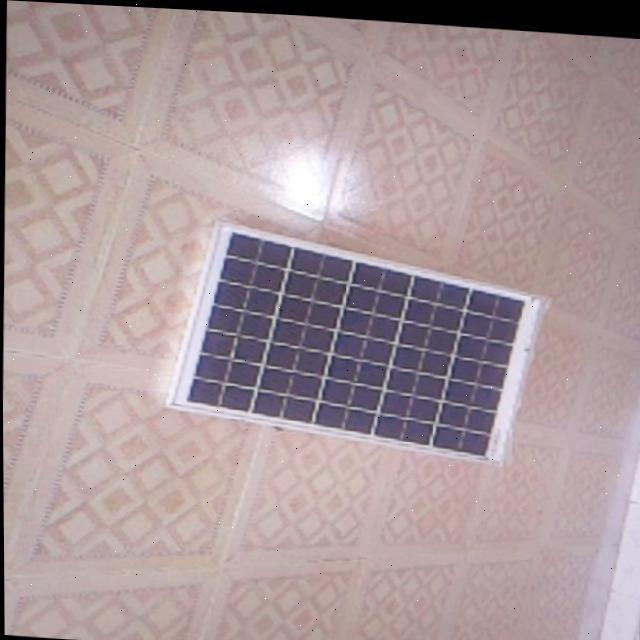Normal Solar Panel: (164, 218, 546, 462)
